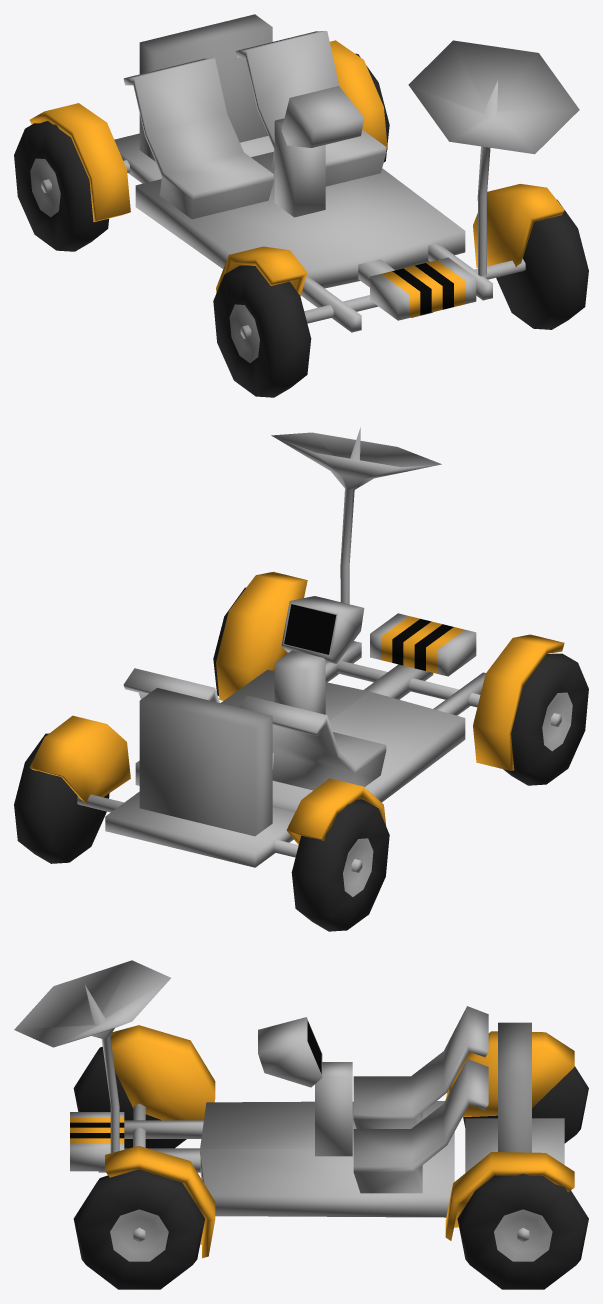
Rendered from SciFiRover_Parts.fbx.
The picture shows the model from 3 angles, top to bottom: view 1: azimuth 30°, elevation 25°; view 2: azimuth 150°, elevation 25°; view 3: azimuth 270°, elevation 25°; orthographic projection. The views are drawn at different scales.
Visible parts, largest first — view 1: lunar-rover-wheel.Parts, lunar-rover-wheel.Parts.008, lunar-rover-wheel.Parts.010, lunar-rover-wheel.Parts.003, lunar-rover-wheel.Parts.009, lunar-rover-wheel.Parts.004, lunar-rover-wheel.Parts.012, lunar-rover-wheel.Parts.002, lunar-rover-wheel.Parts.005, lunar-rover-wheel.Parts.011, lunar-rover-wheel.Parts.001, lunar-rover-wheel.Parts.006 (+1 smaller); view 2: lunar-rover-wheel.Parts, lunar-rover-wheel.Parts.012, lunar-rover-wheel.Parts.004, lunar-rover-wheel.Parts.003, lunar-rover-wheel.Parts.010, lunar-rover-wheel.Parts.008, lunar-rover-wheel.Parts.006, lunar-rover-wheel.Parts.007, lunar-rover-wheel.Parts.011, lunar-rover-wheel.Parts.001, lunar-rover-wheel.Parts.005, lunar-rover-wheel.Parts.009; view 3: lunar-rover-wheel.Parts, lunar-rover-wheel.Parts.002, lunar-rover-wheel.Parts.008, lunar-rover-wheel.Parts.009, lunar-rover-wheel.Parts.007, lunar-rover-wheel.Parts.010, lunar-rover-wheel.Parts.012, lunar-rover-wheel.Parts.006, lunar-rover-wheel.Parts.005, lunar-rover-wheel.Parts.001, lunar-rover-wheel.Parts.011, lunar-rover-wheel.Parts.003 (+1 smaller).
Boxes of the visible parts, box(x1,y1,x2,y2) form: lunar-rover-wheel.Parts: box(41, 53, 564, 338); lunar-rover-wheel.Parts.008: box(408, 40, 579, 276); lunar-rover-wheel.Parts.010: box(123, 58, 273, 219); lunar-rover-wheel.Parts.003: box(213, 265, 311, 397); lunar-rover-wheel.Parts.009: box(235, 31, 386, 186); lunar-rover-wheel.Parts.004: box(14, 121, 108, 251); lunar-rover-wheel.Parts.012: box(139, 14, 272, 161); lunar-rover-wheel.Parts.002: box(496, 199, 588, 329); lunar-rover-wheel.Parts.005: box(29, 103, 130, 221); lunar-rover-wheel.Parts.011: box(370, 257, 476, 320); lunar-rover-wheel.Parts.001: box(281, 86, 364, 147); lunar-rover-wheel.Parts.006: box(330, 40, 387, 149); lunar-rover-wheel.Parts: box(14, 571, 561, 872); lunar-rover-wheel.Parts.012: box(139, 688, 272, 836); lunar-rover-wheel.Parts.004: box(291, 799, 389, 931); lunar-rover-wheel.Parts.003: box(503, 653, 588, 785); lunar-rover-wheel.Parts.010: box(239, 695, 386, 790); lunar-rover-wheel.Parts.008: box(271, 427, 441, 604); lunar-rover-wheel.Parts.006: box(29, 715, 130, 803); lunar-rover-wheel.Parts.007: box(473, 634, 564, 770); lunar-rover-wheel.Parts.011: box(370, 613, 476, 676); lunar-rover-wheel.Parts.001: box(281, 596, 364, 663); lunar-rover-wheel.Parts.005: box(286, 778, 385, 844); lunar-rover-wheel.Parts.009: box(123, 668, 219, 702); lunar-rover-wheel.Parts: box(98, 1062, 588, 1289); lunar-rover-wheel.Parts.002: box(73, 1169, 204, 1289); lunar-rover-wheel.Parts.008: box(14, 960, 170, 1152); lunar-rover-wheel.Parts.009: box(353, 1059, 488, 1193); lunar-rover-wheel.Parts.007: box(110, 1025, 215, 1120); lunar-rover-wheel.Parts.010: box(353, 1006, 488, 1128); lunar-rover-wheel.Parts.012: box(498, 1022, 531, 1152); lunar-rover-wheel.Parts.006: box(445, 1152, 574, 1240); lunar-rover-wheel.Parts.005: box(446, 1031, 574, 1116); lunar-rover-wheel.Parts.001: box(258, 1017, 322, 1087); lunar-rover-wheel.Parts.011: box(70, 1112, 124, 1171); lunar-rover-wheel.Parts.003: box(73, 1046, 186, 1148).
Bounding box in the file's own units: 206 × 179 × 338.
1 material, 1 textured.
